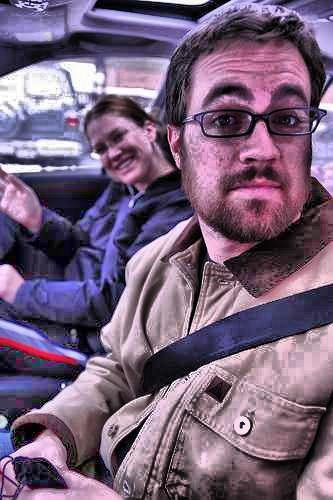seatbelt: (83, 292, 297, 394)
